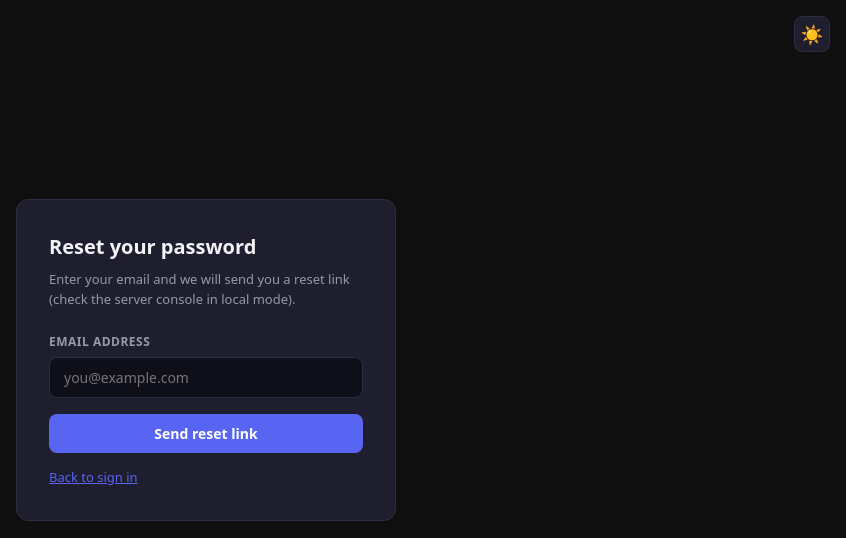
Scenario: shows loading state while submitting
The width and height of the screenshot is (846, 538).
Type "x@y.com" into the field with test id "fp-email". click: (206, 378)
box: [49,357,363,398]
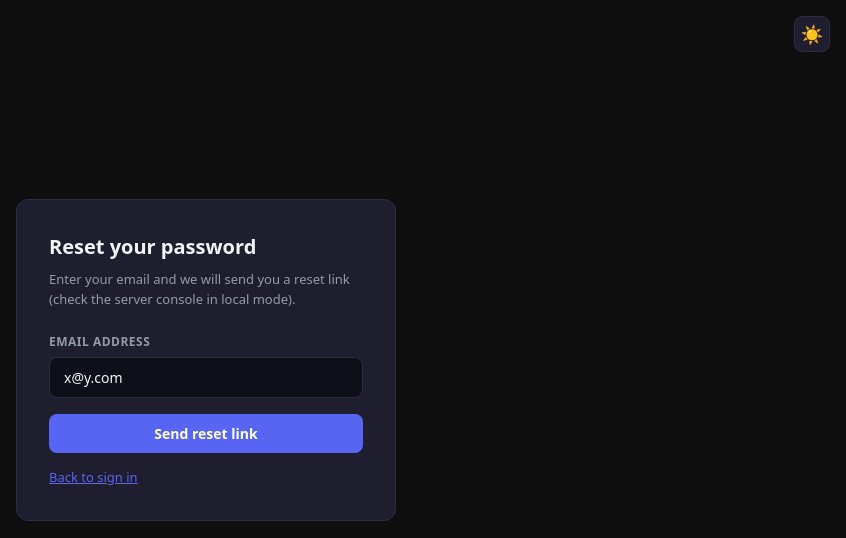
Click the button with test id "fp-submit". click: (206, 434)
box: [49,414,363,453]
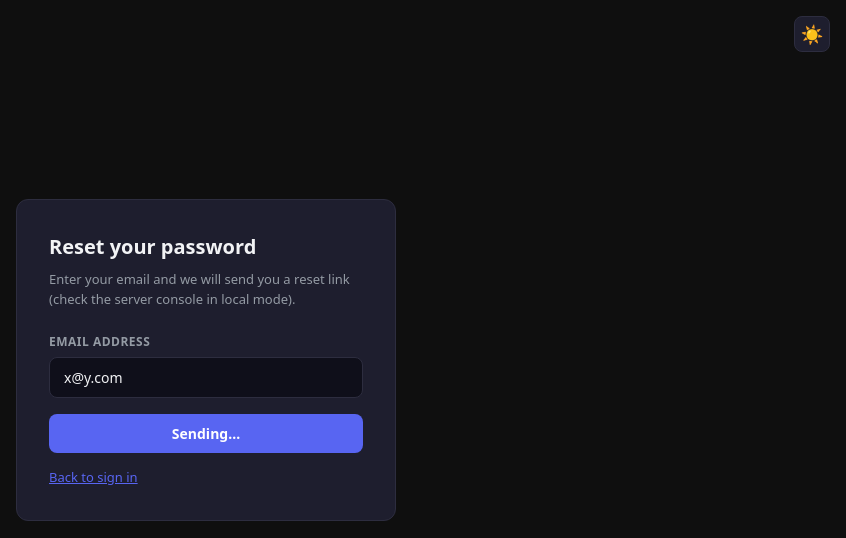
Check: the button with test id "fp-submit" shows "Sending", box [49,414,363,453]
